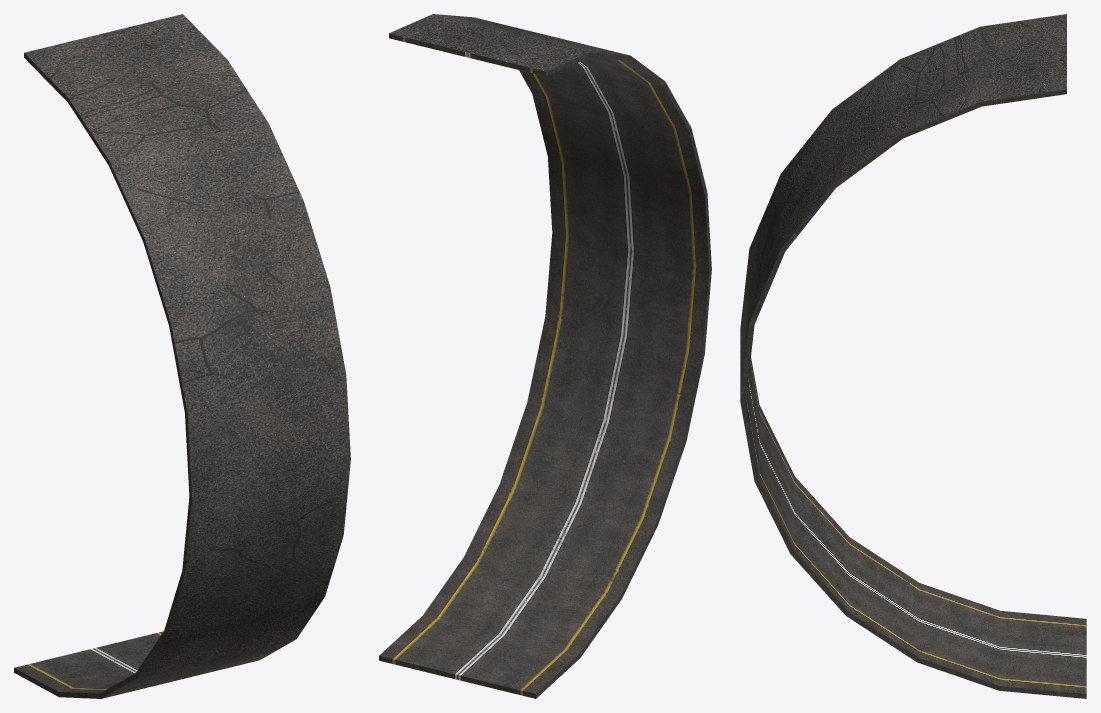
The model's file is Road_05.fbx.
3 views of the same model, side by side, from view 1: azimuth 30°, elevation 25°; view 2: azimuth 150°, elevation 25°; view 3: azimuth 270°, elevation 25° (orthographic). The views are drawn at different scales.
Parts seen in each view (by area): view 1: Road_05; view 2: Road_05; view 3: Road_05.
Boxes of the visible parts, x1,y1,x2,y2 form: Road_05: [14, 14, 350, 698]; Road_05: [379, 14, 711, 698]; Road_05: [740, 14, 1086, 698].
Size of the model in its own units: 999 by 3773 by 1941.
